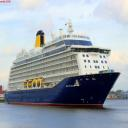cruises: (5, 18, 123, 114)
